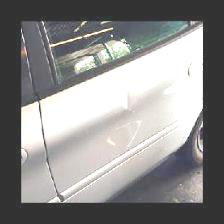door_dent: (100, 86, 155, 122)
